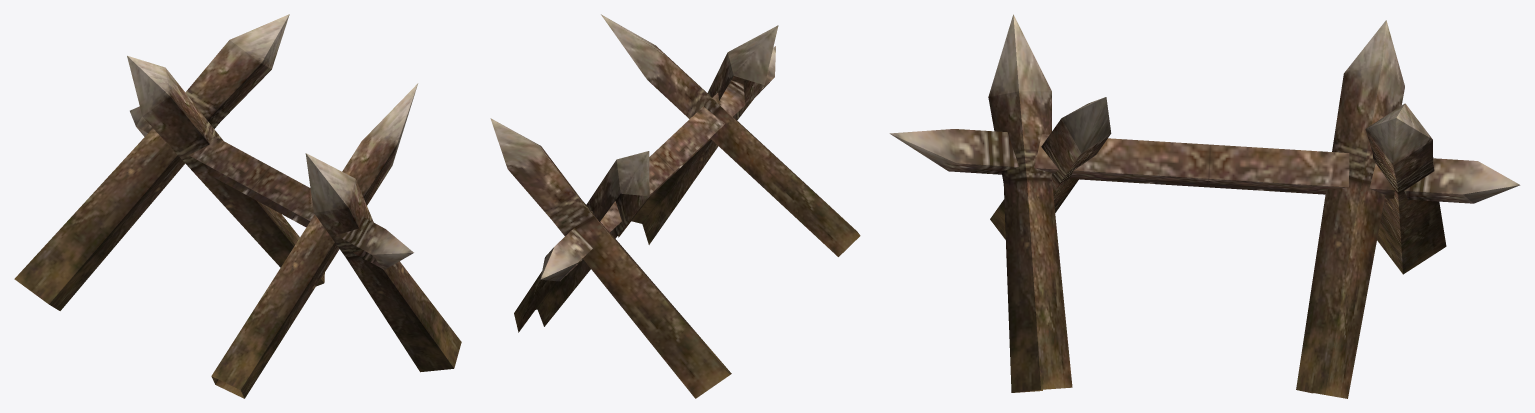
File: SC001Jwujian_18.FBX
3 renders of one model, left to right at view 1: azimuth 30°, elevation 25°; view 2: azimuth 150°, elevation 25°; view 3: azimuth 270°, elevation 25°, orthographic. The views are drawn at different scales.
Parts seen in each view (by area): view 1: SC001Jwujian_18; view 2: SC001Jwujian_18; view 3: SC001Jwujian_18.
Boxes of the visible parts, x1,y1,x2,y2 form: SC001Jwujian_18: [14, 14, 461, 398]; SC001Jwujian_18: [490, 14, 860, 398]; SC001Jwujian_18: [889, 14, 1520, 398].
Size of the model in its own units: 1.63 by 1.45 by 2.65.
